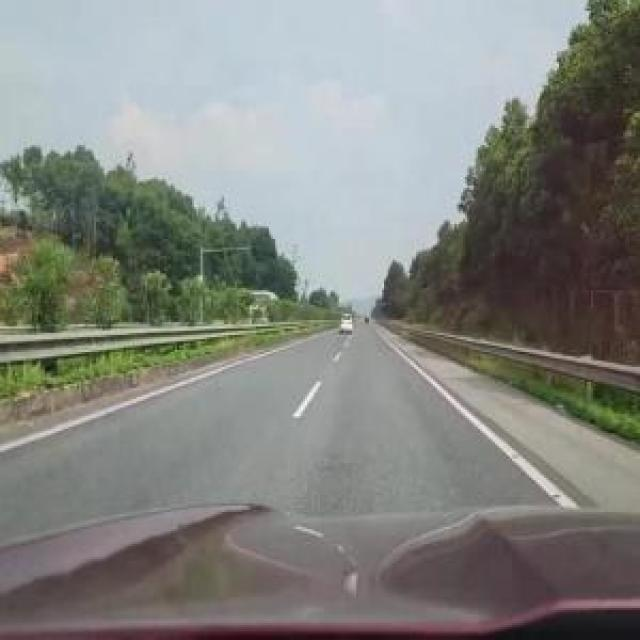clear-road: (0, 324, 552, 546), (0, 325, 552, 546)
